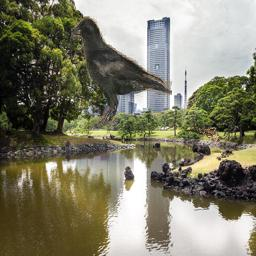Crow: (72, 17, 173, 128)
Sparrow: (199, 128, 221, 143)
